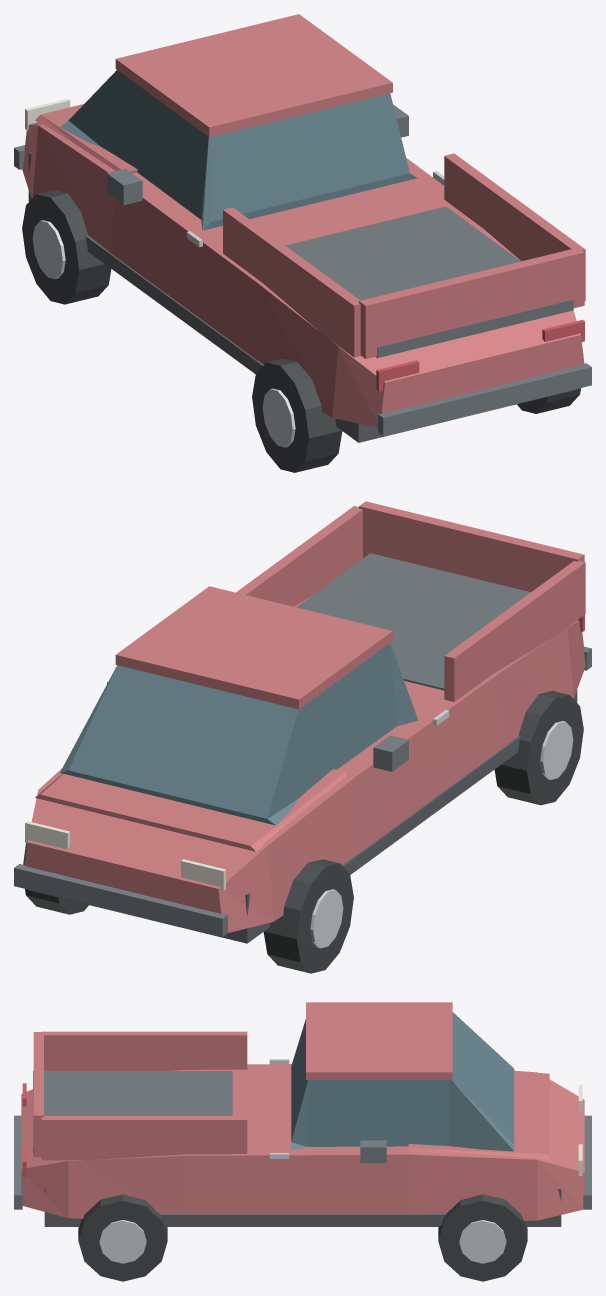
Rendered from strada.glb.
3 renders of one model, top to bottom at view 1: azimuth 30°, elevation 25°; view 2: azimuth 150°, elevation 25°; view 3: azimuth 270°, elevation 25°, orthographic. The views are drawn at different scales.
Visible parts, largest first — view 1: body_0001, cab_glass_0022, roof_0023, bed_floor_0024, tailgate_0027, bed_side_0025, bed_side_0026, wheel_tire_0006, wheel_tire_0004, bumper_0029, lower_sill_0012, hood_0002 (+7 smaller); view 2: body_0001, cab_glass_0022, roof_0023, bed_floor_0024, tailgate_0027, bed_side_0025, hood_0002, wheel_tire_0004, bed_side_0026, wheel_tire_0006, bumper_0028, lower_sill_0012 (+7 smaller); view 3: body_0001, cab_glass_0022, roof_0023, bed_side_0026, bed_floor_0024, bed_side_0025, wheel_tire_0015, wheel_tire_0013, hood_0002, lower_sill_0021, wheel_rim_0014, wheel_rim_0016 (+5 smaller).
Part boxes in pixels (bbox=[...]): body_0001: bbox=[22, 122, 584, 427]; cab_glass_0022: bbox=[60, 70, 417, 230]; roof_0023: bbox=[115, 14, 392, 137]; bed_floor_0024: bbox=[285, 206, 573, 357]; tailgate_0027: bbox=[359, 247, 584, 358]; bed_side_0025: bbox=[223, 207, 360, 357]; bed_side_0026: bbox=[444, 153, 585, 301]; wheel_tire_0006: bbox=[252, 358, 342, 472]; wheel_tire_0004: bbox=[22, 190, 111, 304]; bumper_0029: bbox=[378, 363, 591, 436]; lower_sill_0012: bbox=[85, 235, 263, 373]; hood_0002: bbox=[35, 104, 137, 173]; body_0001: bbox=[24, 596, 585, 932]; cab_glass_0022: bbox=[60, 643, 418, 825]; roof_0023: bbox=[115, 586, 392, 709]; bed_floor_0024: bbox=[296, 553, 530, 690]; tailgate_0027: bbox=[359, 501, 584, 591]; bed_side_0025: bbox=[444, 561, 585, 701]; hood_0002: bbox=[35, 769, 347, 851]; wheel_tire_0004: bbox=[263, 859, 353, 973]; bed_side_0026: bbox=[236, 506, 362, 606]; wheel_tire_0006: bbox=[494, 690, 583, 805]; bumper_0028: bbox=[14, 864, 227, 936]; lower_sill_0012: bbox=[341, 736, 520, 874]; body_0001: bbox=[21, 1064, 584, 1220]; cab_glass_0022: bbox=[291, 1012, 514, 1151]; roof_0023: bbox=[306, 1002, 452, 1079]; bed_side_0026: bbox=[41, 1116, 247, 1160]; bed_floor_0024: bbox=[33, 1071, 232, 1154]; bed_side_0025: bbox=[42, 1031, 247, 1070]; wheel_tire_0015: bbox=[78, 1194, 167, 1281]; wheel_tire_0013: bbox=[438, 1194, 527, 1281]; hood_0002: bbox=[408, 1071, 549, 1159]; lower_sill_0021: bbox=[159, 1214, 446, 1225]; wheel_rim_0014: bbox=[459, 1220, 506, 1263]; wheel_rim_0016: bbox=[99, 1220, 146, 1263].
Bounding box in the file's own units: 1.96 × 1.61 × 4.4.
